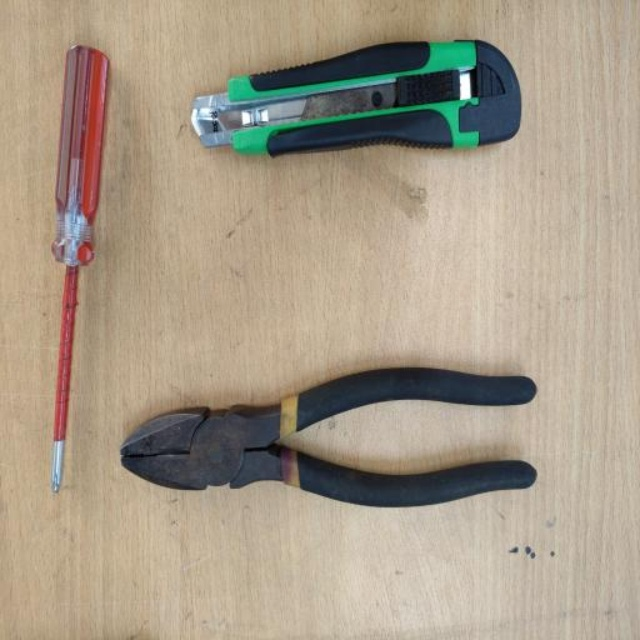screwdriver: (45, 35, 111, 508)
